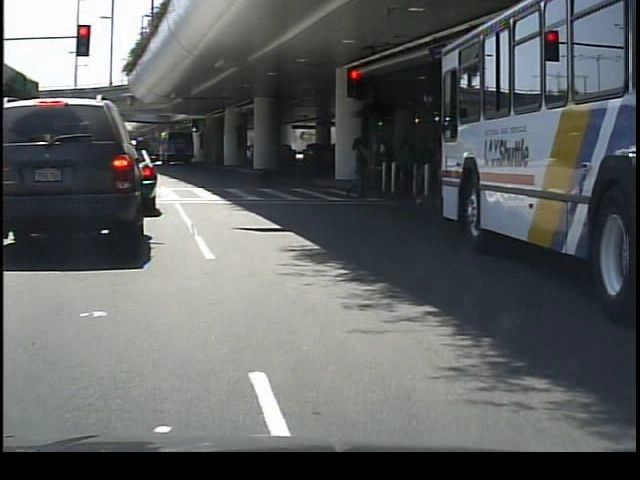person: (341, 136, 375, 203)
